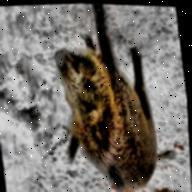boar: (37, 2, 184, 192)
